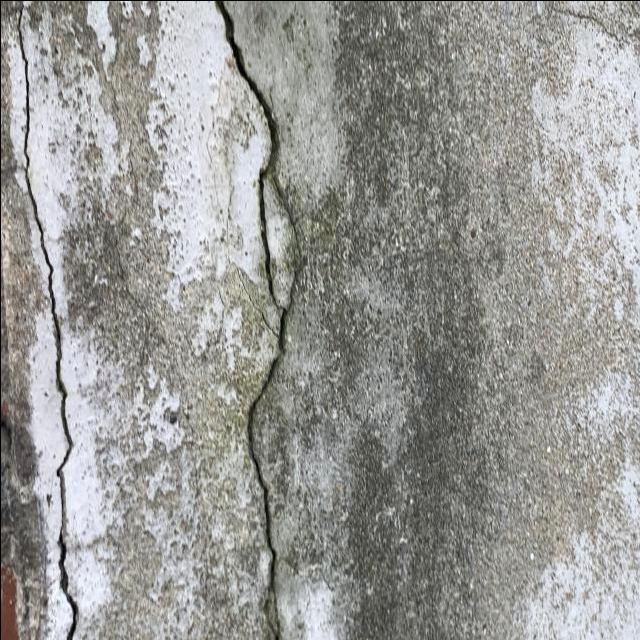SurfaceCrack: (163, 0, 341, 640), (0, 1, 120, 640)
